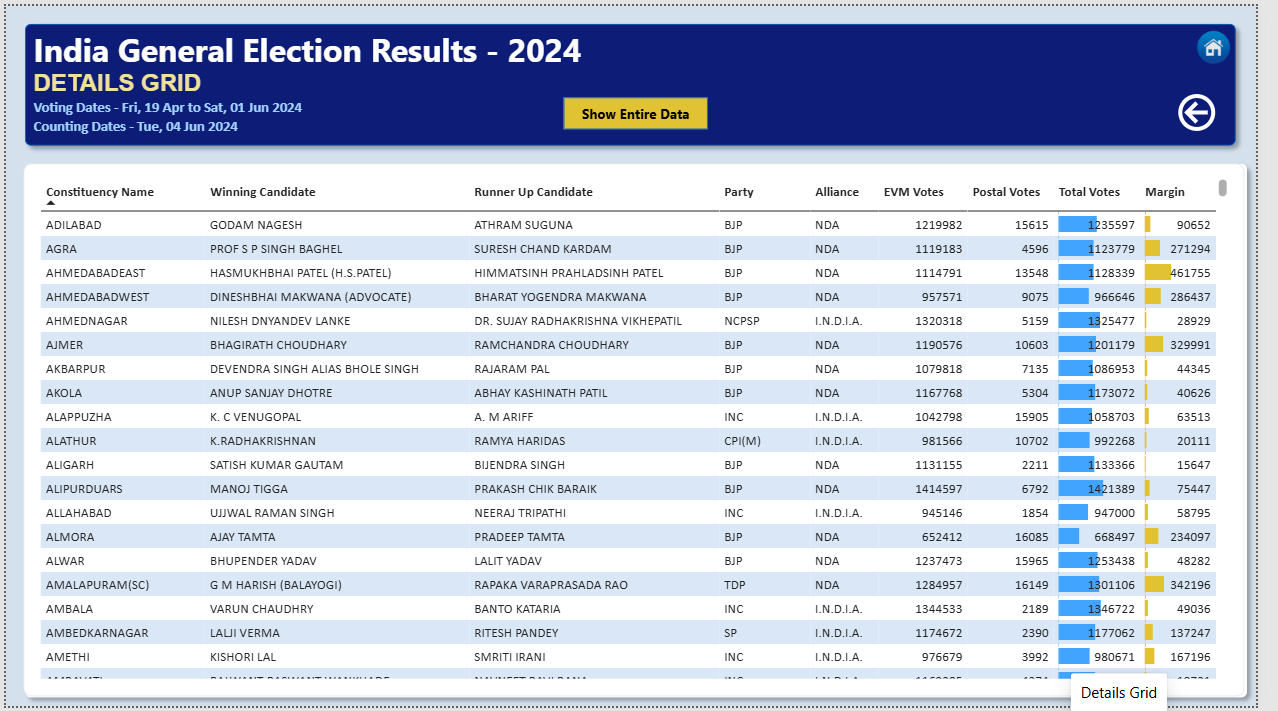

The page's visual inventory and layout, read from the dashboard file:
{"tool":"powerbi","page":{"name":"Details Grid","canvas":[1250,700],"ordinal":5},"visuals":[{"type":"shape","box":[10,8.8,1228.8,140],"z":0},{"type":"textbox","box":[27.5,21.2,1113.8,116.2],"z":1000},{"type":"shape","box":[9.5,148.6,1240,551.6],"z":2000},{"type":"tableEx","fields":{"Values":["constituencywise_results.Constituency Name","constituencywise_results.Winning Candidate","constituencywise_details.Runner Up Candidate","constituencywise_results.Party Short Name","constituencywise_results.Party Alliance (results)","Sum(constituencywise_details.EVM Votes)","Sum(constituencywise_details.Postal Votes)","Sum(constituencywise_details.Total Votes)","Sum(constituencywise_results.Margin)"]},"box":[17.8,158.1,1221,532.6],"z":3000},{"type":"actionButton","box":[1151.1,74.4,78.9,63.3],"z":4000},{"type":"shape","box":[557.8,91.1,144.4,32.2],"z":5000},{"type":"image","box":[1187.8,21.1,40,40],"z":5001}]}

Visuals, with their boxes in screenshot pixels (x1, y1, x2, y2), scaled from the page's 1250x700 canvas onto the 1278x711 screenshot:
shape: (x1=10, y1=9, x2=1267, y2=151)
textbox: (x1=28, y1=22, x2=1167, y2=140)
shape: (x1=10, y1=151, x2=1277, y2=710)
tableEx - constituencywise_results.Constituency Name x constituencywise_results.Winning Candidate: (x1=18, y1=161, x2=1267, y2=702)
actionButton: (x1=1177, y1=76, x2=1258, y2=140)
shape: (x1=570, y1=93, x2=718, y2=125)
image: (x1=1214, y1=21, x2=1255, y2=62)
